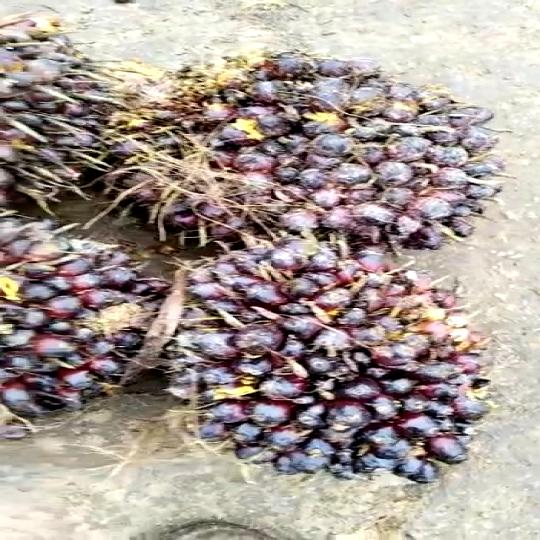kurang masak: (138, 216, 492, 495), (142, 34, 500, 251)
